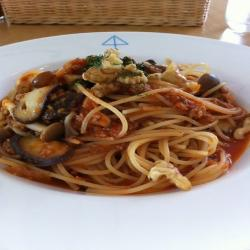bolonese_pasta: (9, 52, 247, 196)
